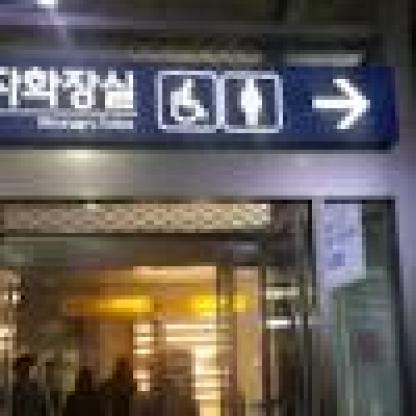toilet: (165, 69, 283, 132)
